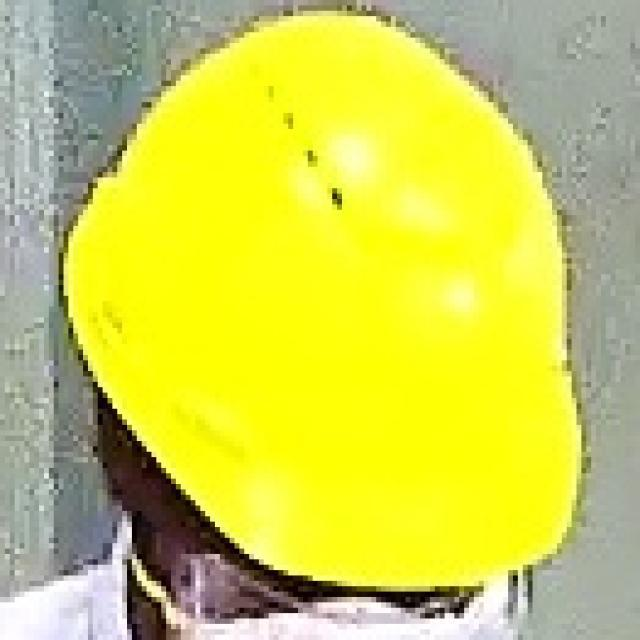yellow helmet: (58, 10, 581, 588)
